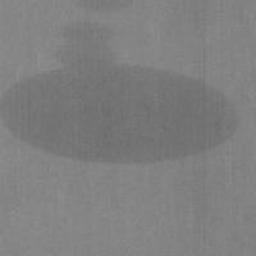Oil spot: (0, 19, 243, 166), (73, 0, 134, 13)
